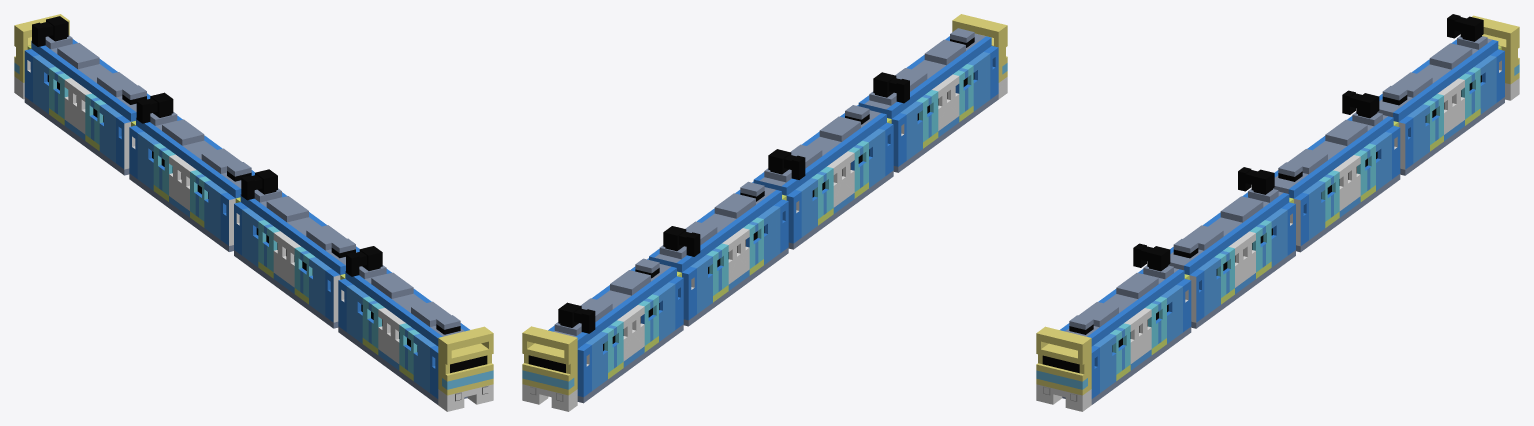
The model's file is Train.gltf.
3 views of the same model, side by side, from view 1: azimuth 30°, elevation 25°; view 2: azimuth 150°, elevation 25°; view 3: azimuth 330°, elevation 25° (orthographic).
Visible parts, largest first — view 1: Material_033-material.001; view 2: Material_033-material.001; view 3: Material_033-material.001.
Boxes of the visible parts, x1,y1,x2,y2 form: Material_033-material.001: [14, 14, 493, 411]; Material_033-material.001: [522, 14, 1007, 411]; Material_033-material.001: [1036, 14, 1519, 411].
Size of the model in its own units: 2.96 by 4.81 by 45.96.
